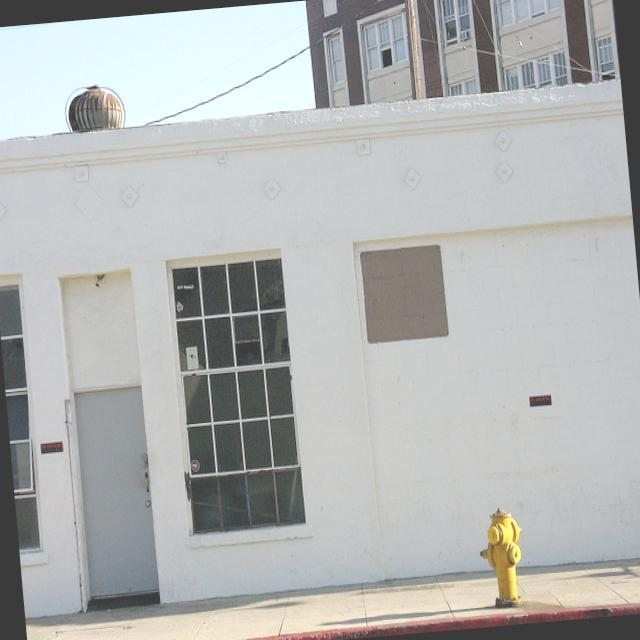fire_hydrant: (476, 506, 528, 608)
